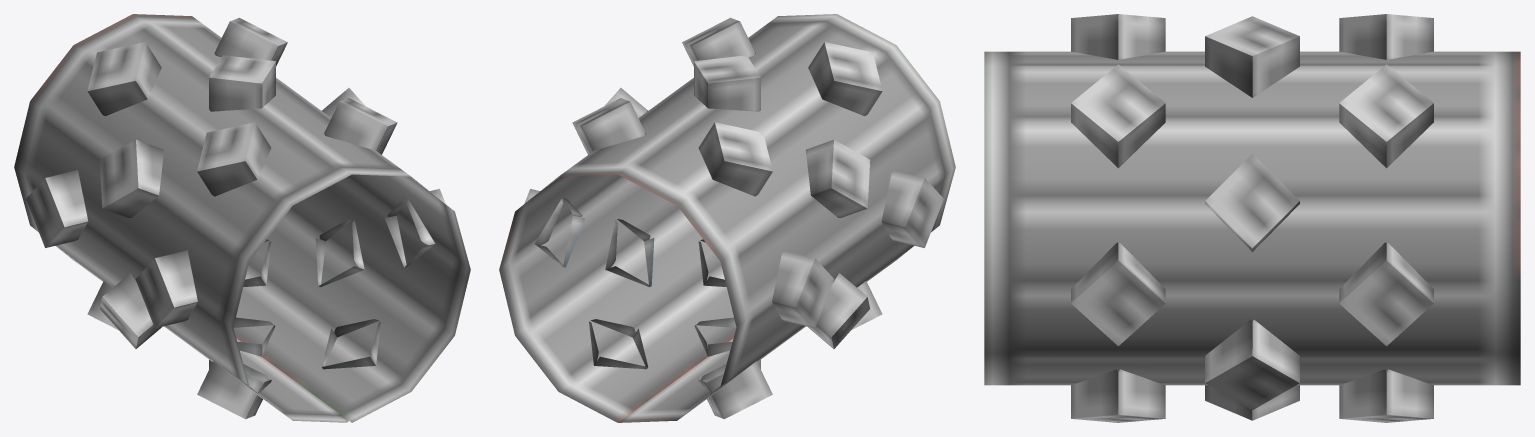
Rendered from annihilator_roller.obj.
3 views of the same model, side by side, from view 1: azimuth 30°, elevation 25°; view 2: azimuth 150°, elevation 25°; view 3: azimuth 270°, elevation 25° (orthographic). The views are drawn at different scales.
Visible parts, largest first — view 1: Roller; view 2: Roller; view 3: Roller.
Part boxes in pixels (<box>): Roller: <box>14,14,470,422</box>; Roller: <box>499,14,955,422</box>; Roller: <box>984,14,1520,422</box>.
Size of the model in its own units: 1.5 by 1.5 by 2.
